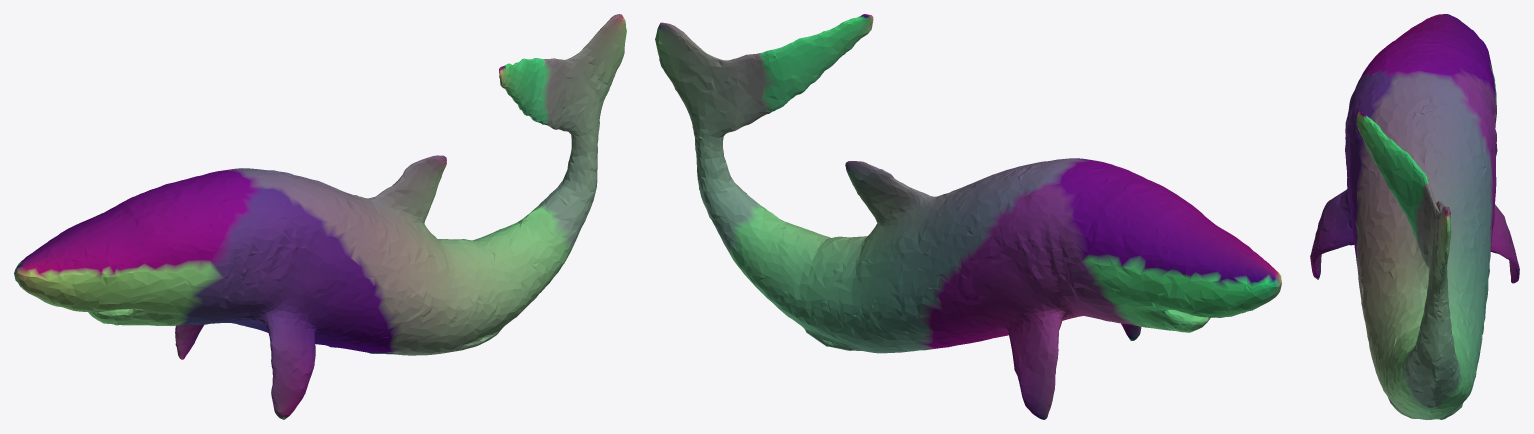
Rendered from shark-3.off.obj.
3 views of the same model, side by side, from view 1: azimuth 30°, elevation 25°; view 2: azimuth 150°, elevation 25°; view 3: azimuth 270°, elevation 25° (orthographic). The views are drawn at different scales.
Bounding box in the file's own units: 1.5 × 0.6908 × 0.4311.
